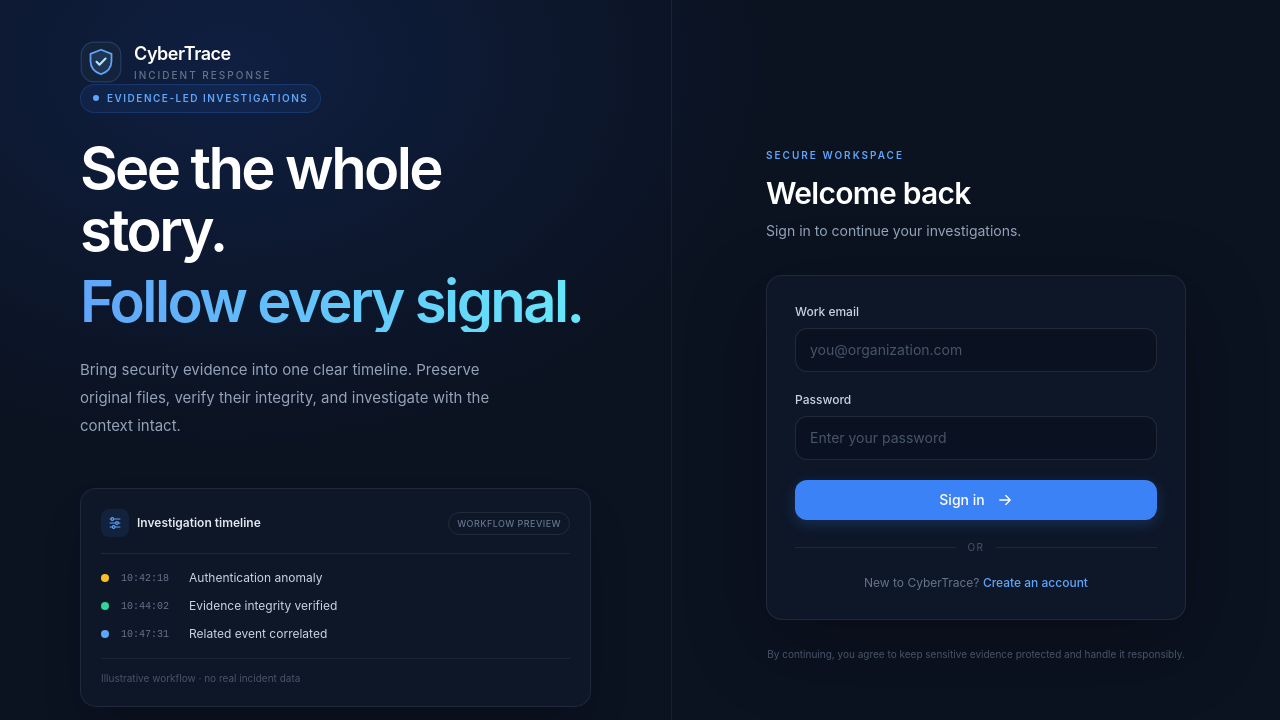
Login › shows registration errors without attempting to sign in
Click the button "Create an account" at [1035, 583], box [983,575,1088,591]
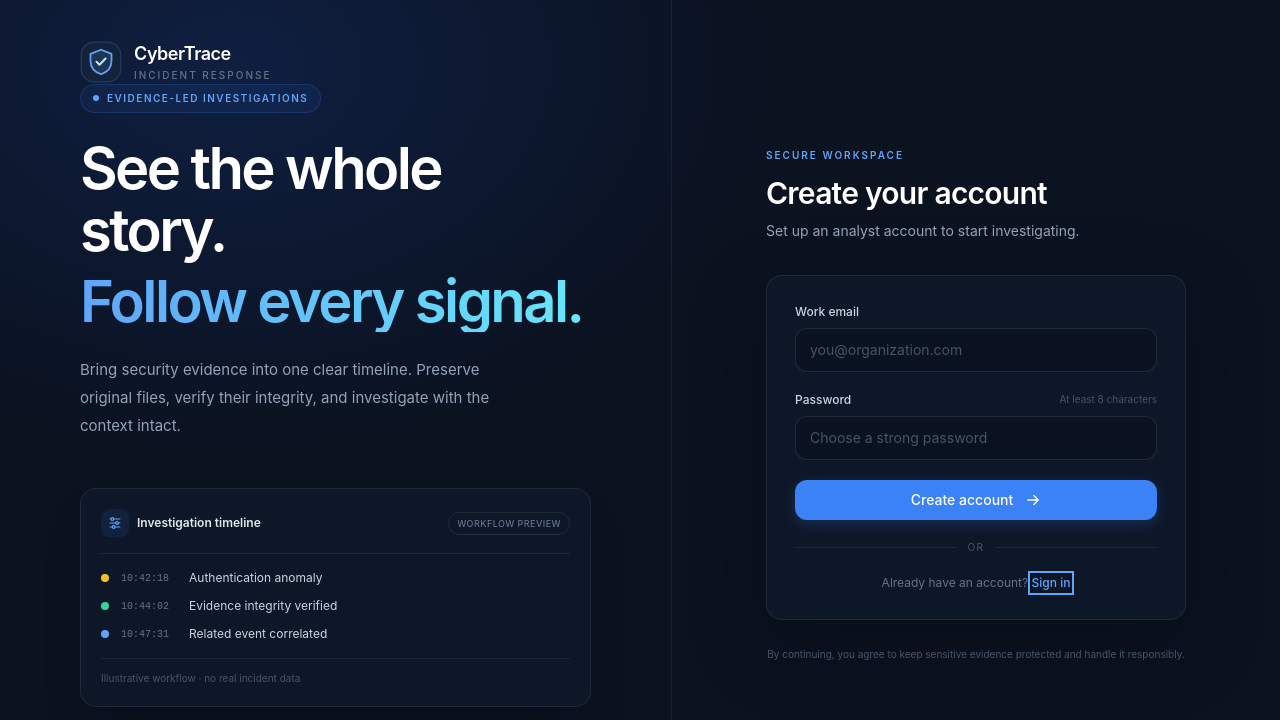
Type "analyst@example.com" into the field labelled "Work email" at [976, 350], box [795,328,1157,372]
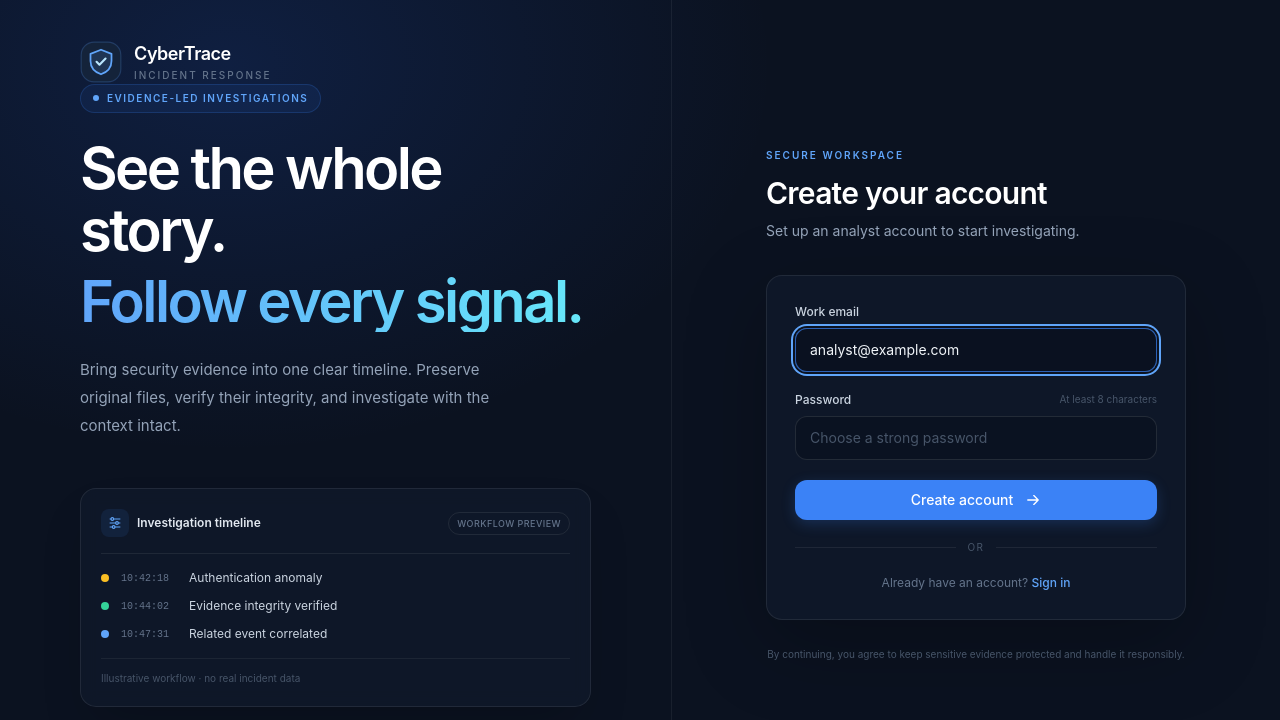
Type "StrongPassword1" into the password field labelled "Password" at [976, 438], box [795,416,1157,460]
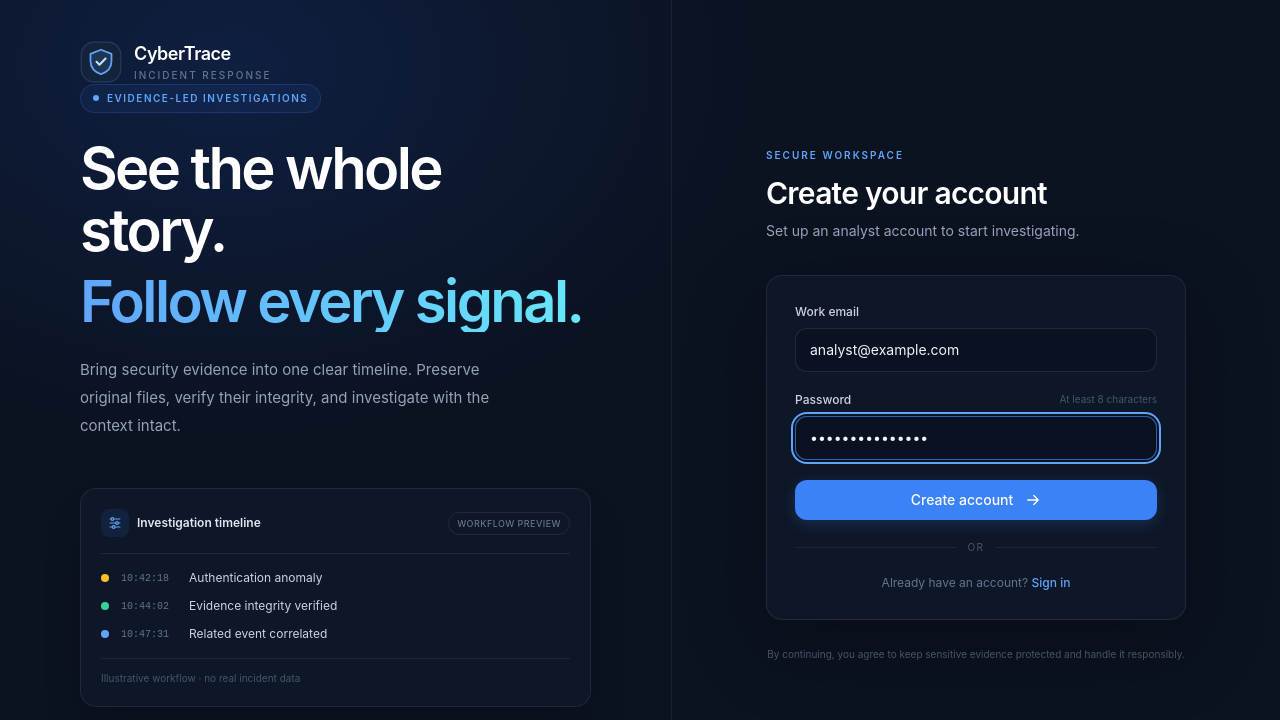
Click the button "Create account" at [976, 500], box [795,480,1157,520]
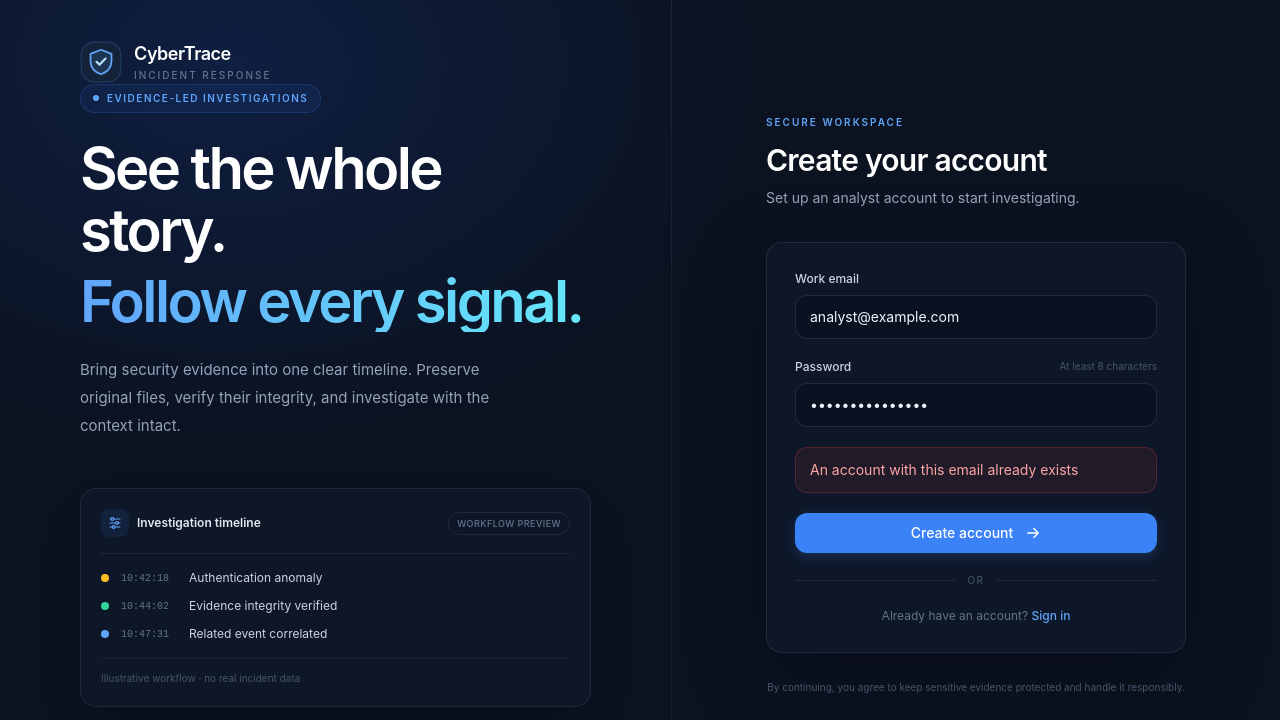
Expected: the message reads "An account with this email already exists", [810,461,1078,478]
